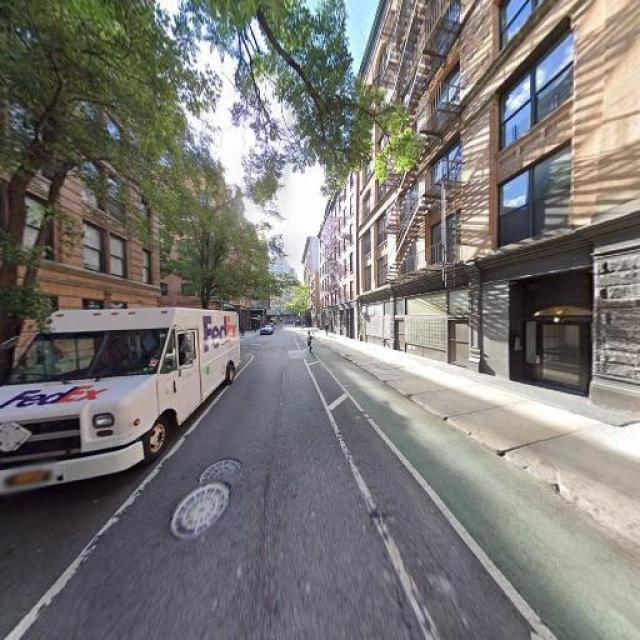Building: (360, 1, 640, 427), (1, 1, 158, 398), (322, 129, 357, 340)
